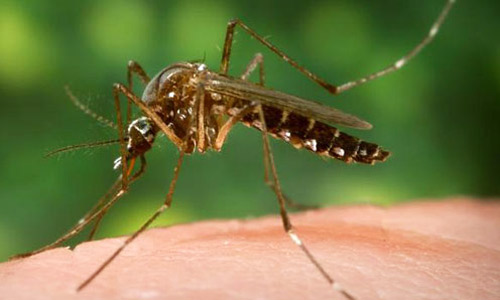dengue_mosquito: (43, 17, 414, 258)
